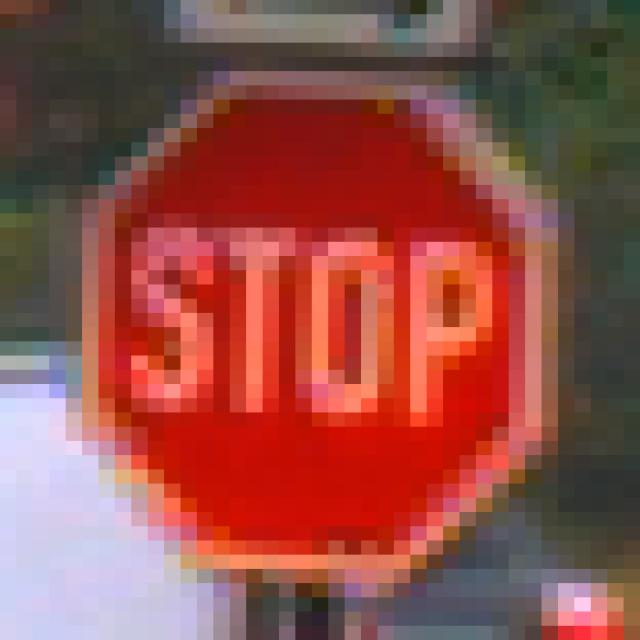STOP: (83, 72, 559, 570)
